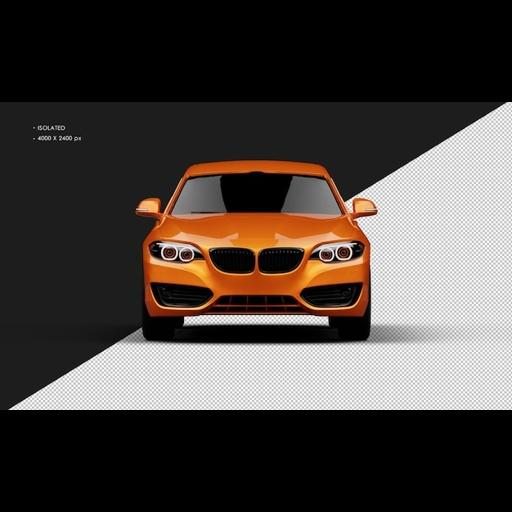sedan: (135, 160, 376, 339)
